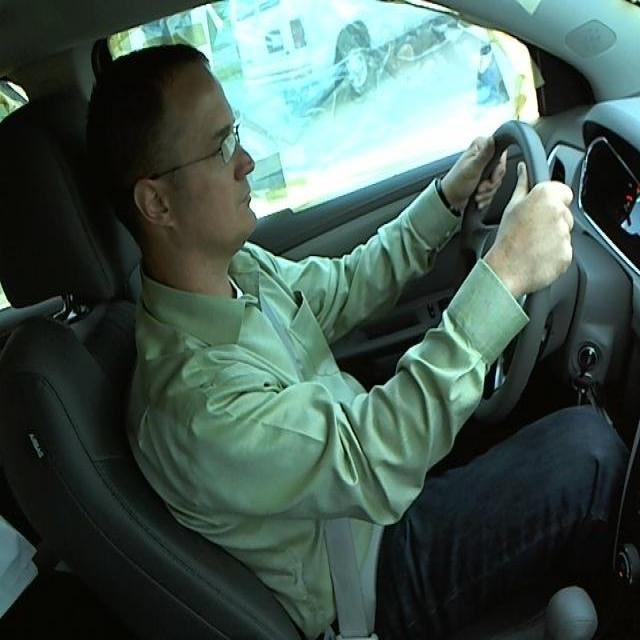without_using_phone: (84, 16, 289, 300)
